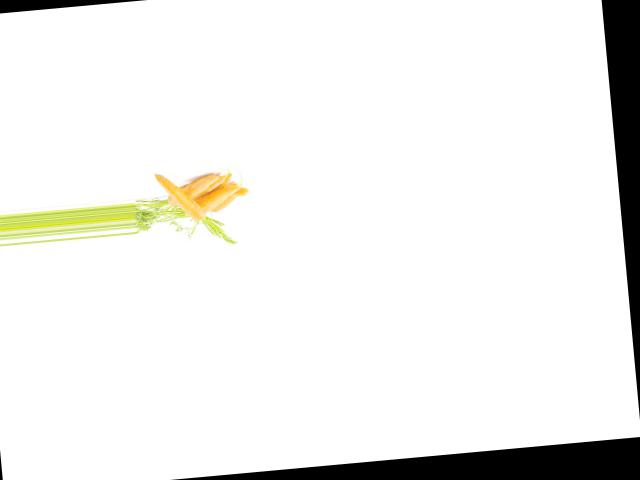carrot: (162, 173, 230, 207)
